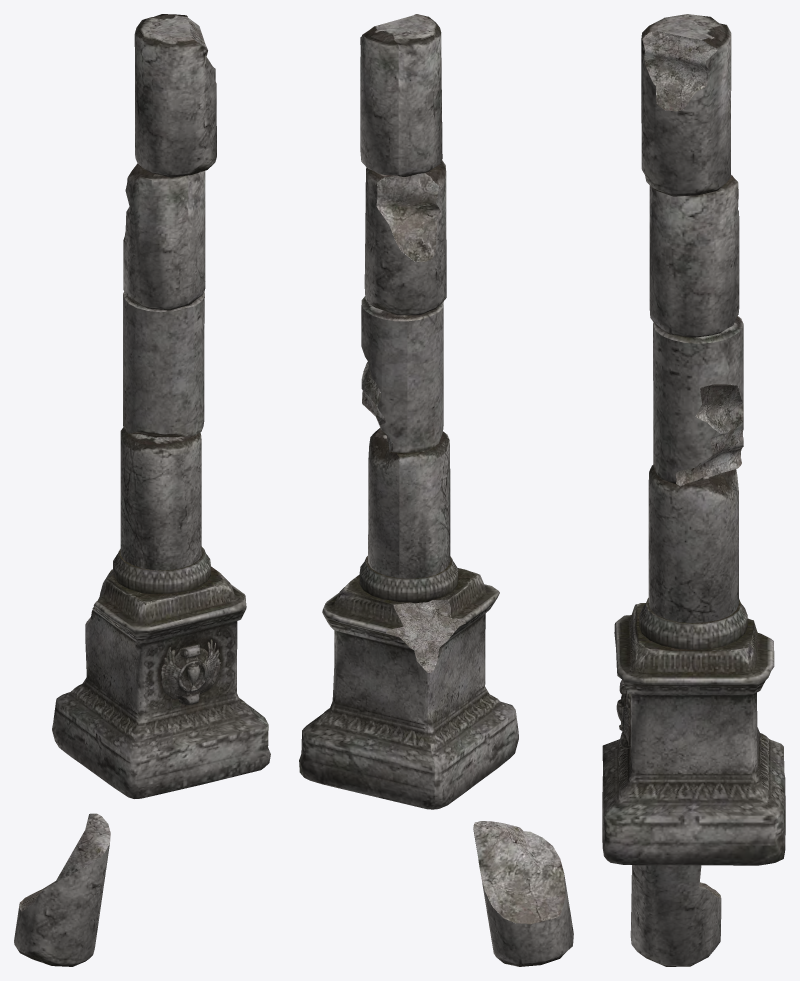
The model's file is eso_ss1_column2-transformed.glb.
The picture shows the model from 3 angles, left to right: view 1: azimuth 30°, elevation 25°; view 2: azimuth 150°, elevation 25°; view 3: azimuth 270°, elevation 25°; orthographic projection. The views are drawn at different scales.
Parts seen in each view (by area): view 1: default; view 2: default; view 3: default.
Boxes of the visible parts, x1=… form: default: x1=14, y1=14, x2=270, y2=966; default: x1=299, y1=14, x2=573, y2=966; default: x1=602, y1=14, x2=785, y2=966.
Bounding box in the file's own units: 4.76 × 18.27 × 3.07.
Materials: 2 (2 with a texture image).
